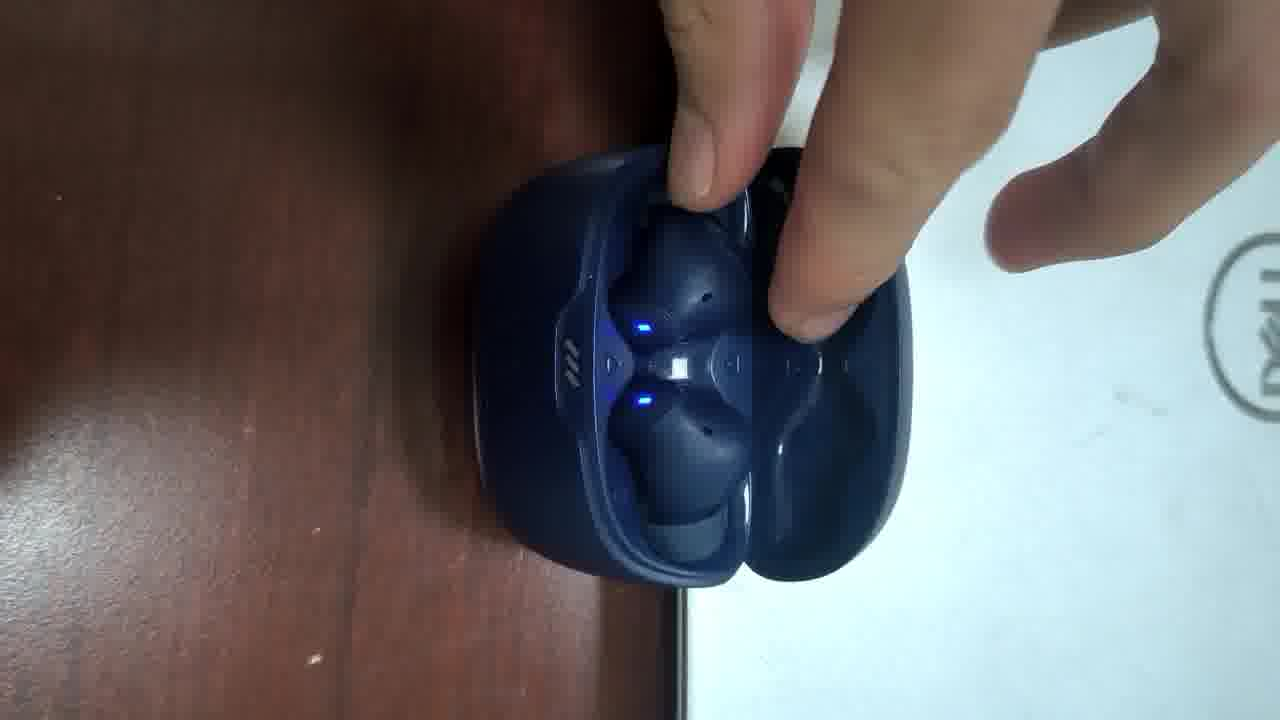Earbud: (608, 377, 750, 526), (609, 205, 750, 349)
